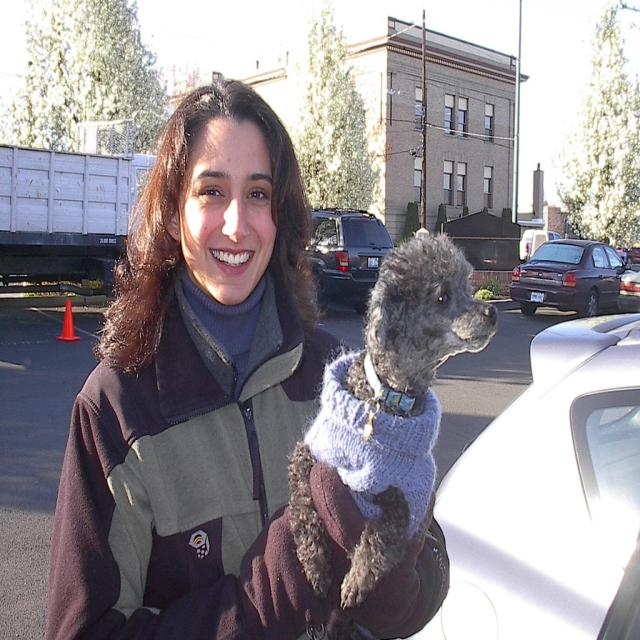Dog: (286, 223, 496, 637)
